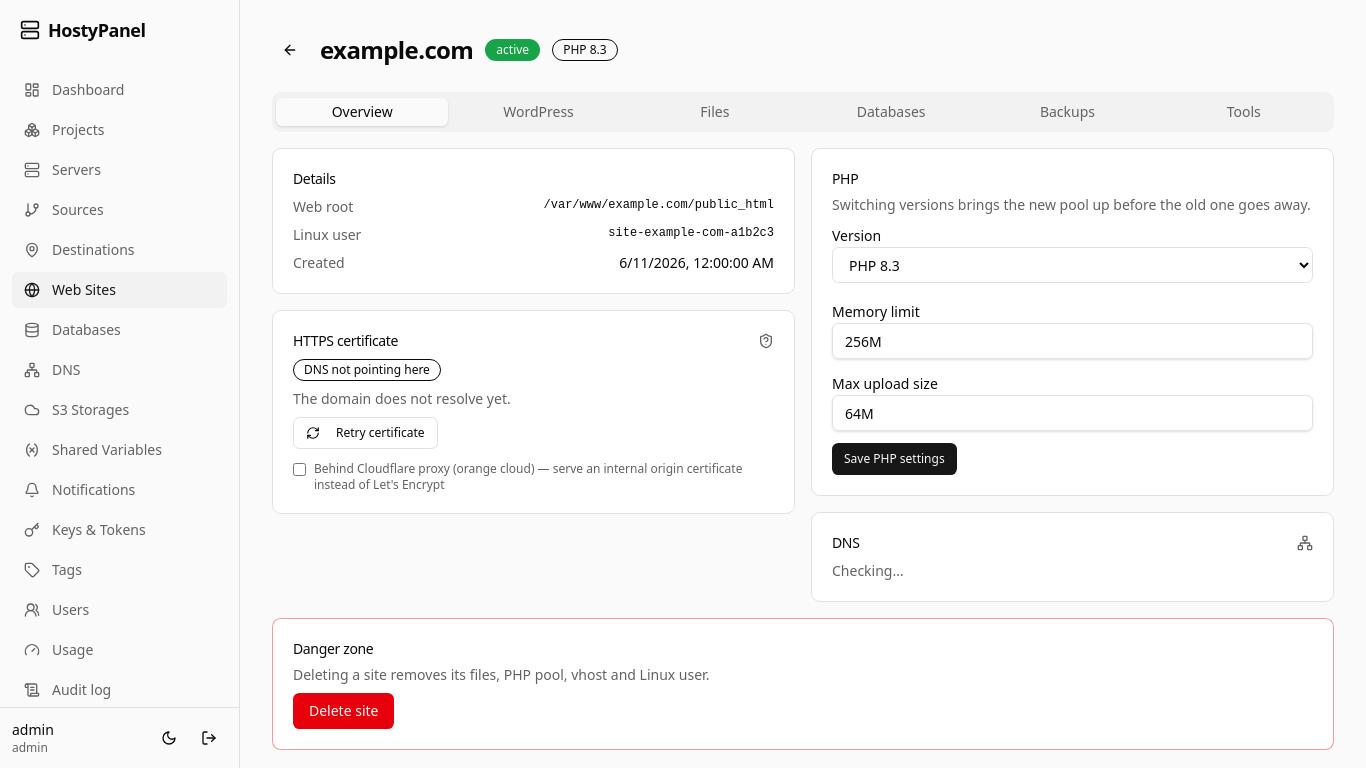
WordPress tab › shows an error — never the install wizard — when installed but unhealthy
Click the tab "WordPress" at (538, 112), box 452,98 -> 625,126
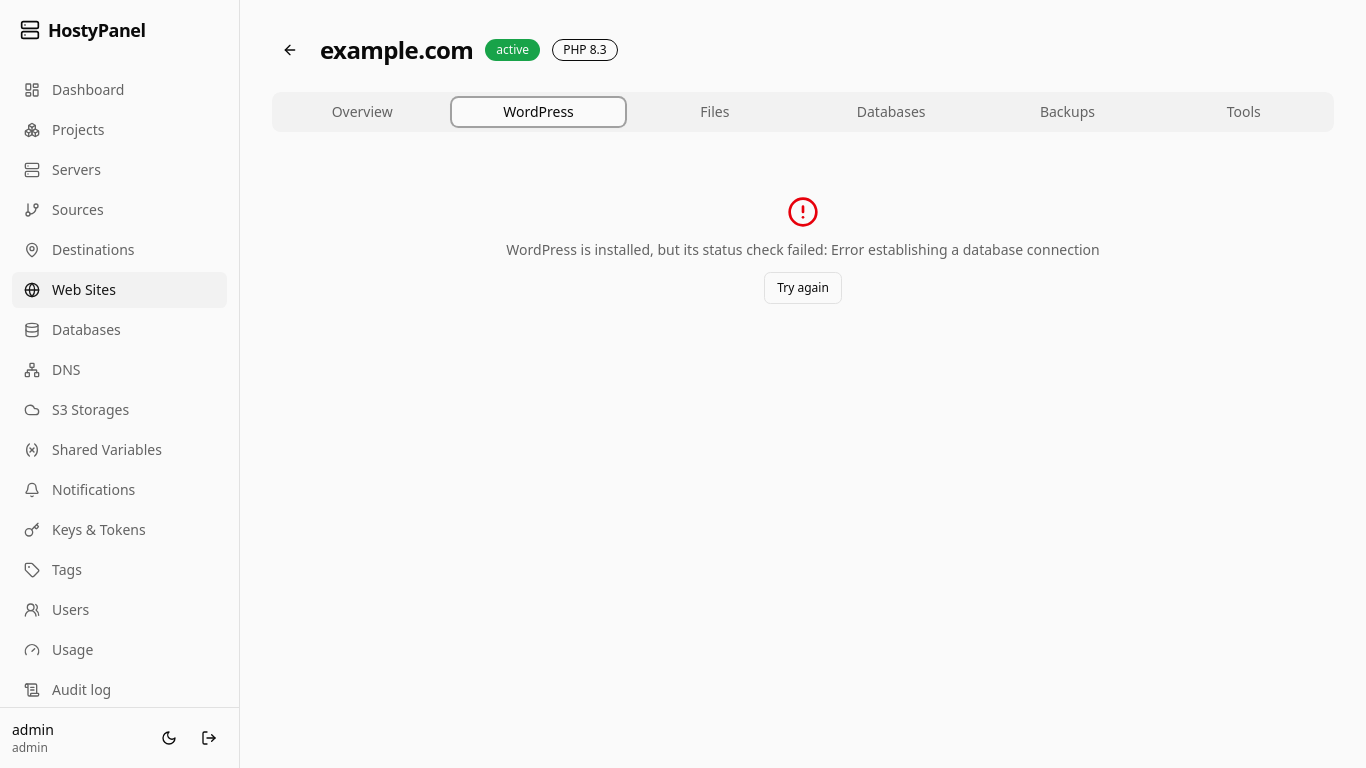
Check: the text "status check failed" is shown, box 506,240 -> 1100,259
